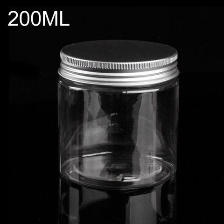plastic_box: (47, 32, 187, 196)
